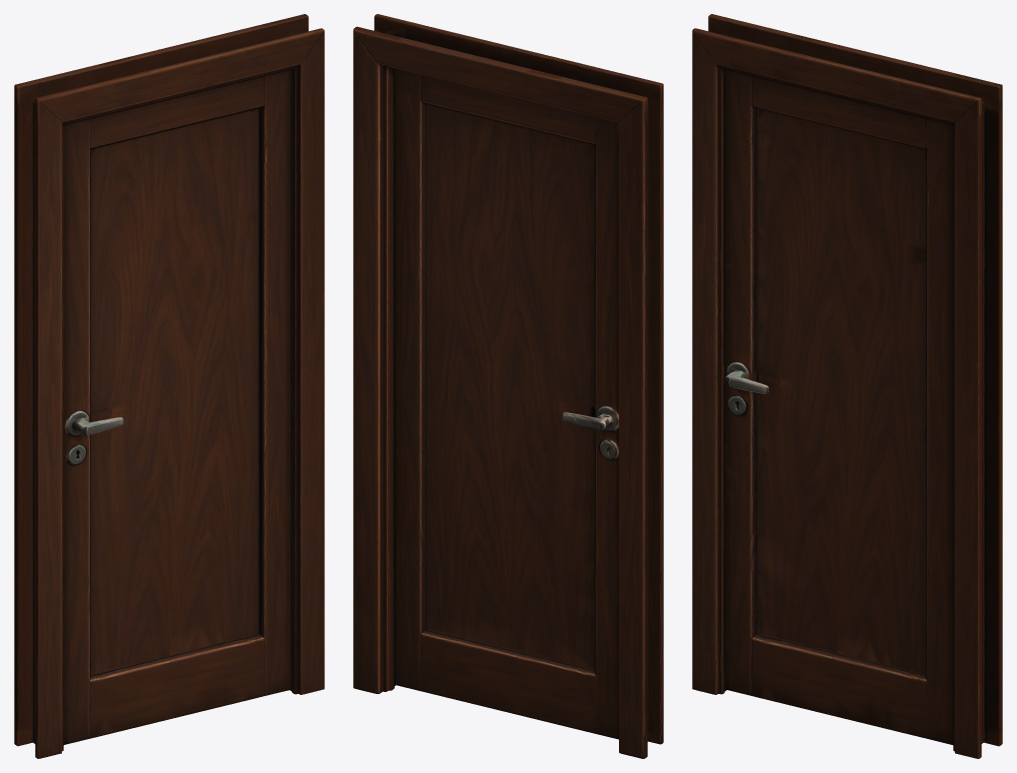
The model's file is closed_door.glb.
3 renders of one model, left to right at view 1: azimuth 30°, elevation 25°; view 2: azimuth 150°, elevation 25°; view 3: azimuth 330°, elevation 25°, orthographic.
Visible parts, largest first — view 1: mesh_node; view 2: mesh_node; view 3: mesh_node.
Boxes of the visible parts, box(x1,y1,x2,y2) form: mesh_node: box(14, 14, 324, 758); mesh_node: box(353, 14, 663, 758); mesh_node: box(692, 14, 1002, 758).
Bounding box in the file's own units: 0.8818 × 1.9 × 0.1482.
1 material, 1 textured.
